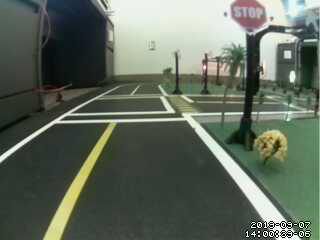Stop_Sign: (227, 1, 271, 36)
